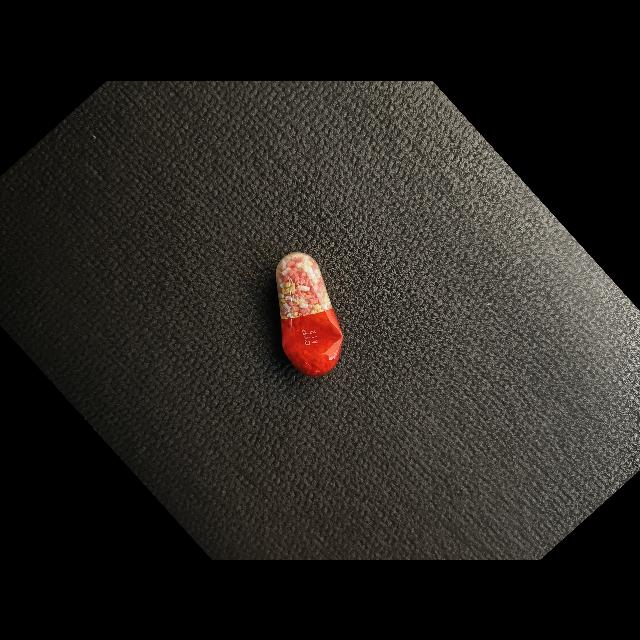Defective Capsule: (276, 270, 344, 376)
